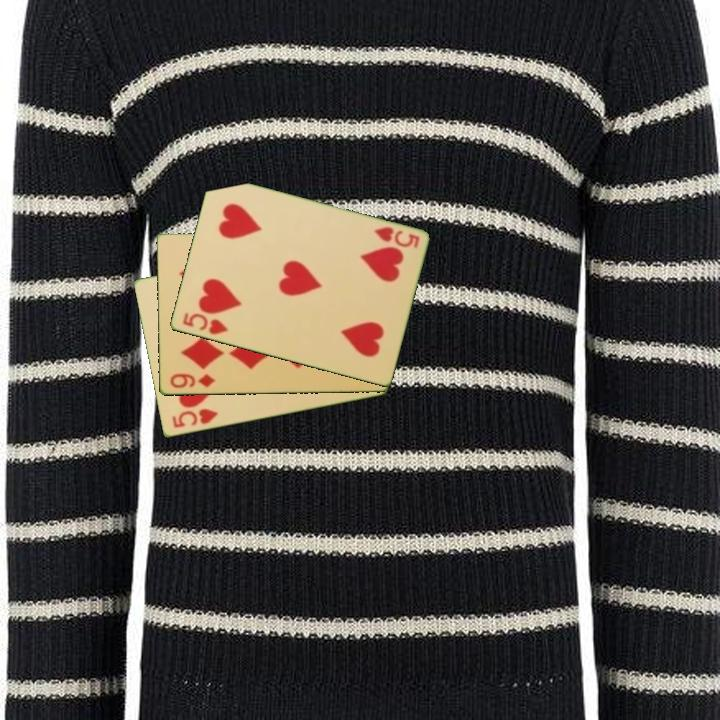5h: (179, 309, 231, 338), (370, 223, 422, 251), (168, 405, 220, 431)
9d: (166, 370, 217, 391)
